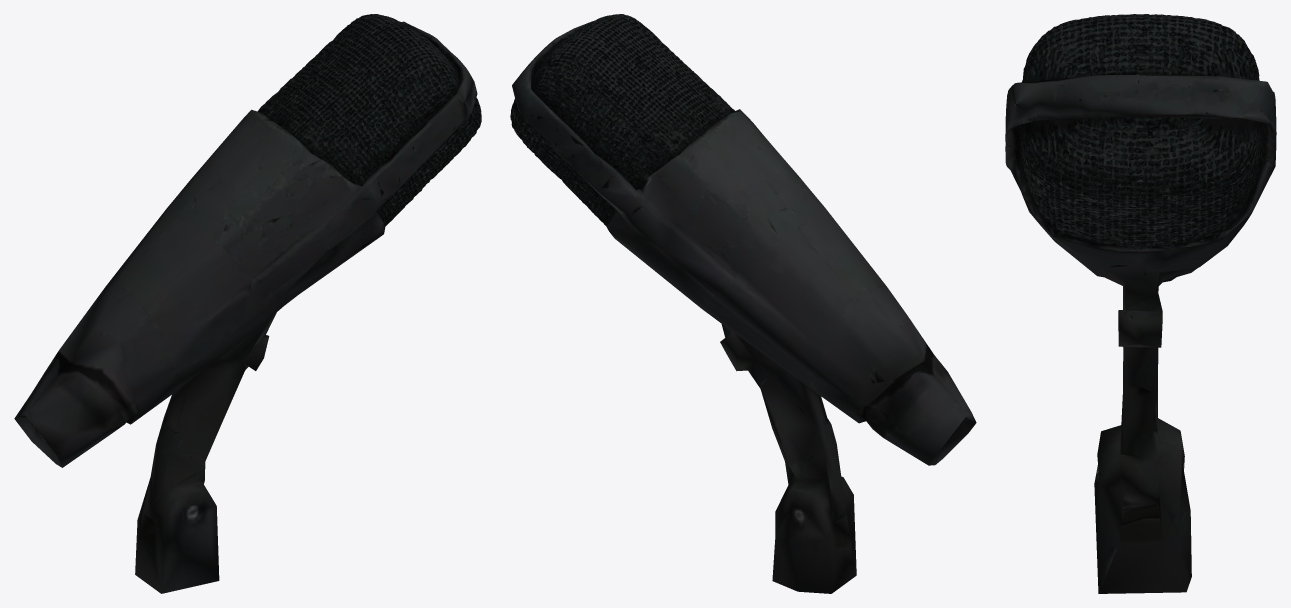
Rendered from Sennheiser MD 421-II.lite.glb.
The picture shows the model from 3 angles, left to right: view 1: azimuth 30°, elevation 25°; view 2: azimuth 150°, elevation 25°; view 3: azimuth 270°, elevation 25°; orthographic projection. The views are drawn at different scales.
Visible parts, largest first — view 1: geometry_0; view 2: geometry_0; view 3: geometry_0.
Boxes of the visible parts, x1,y1,x2,y2 form: geometry_0: (14,14,481,593); geometry_0: (510,14,976,593); geometry_0: (1005,14,1276,593).
Bounding box in the file's own units: 0.1956 × 0.2135 × 0.0736.
Materials: 1 (1 with a texture image).
